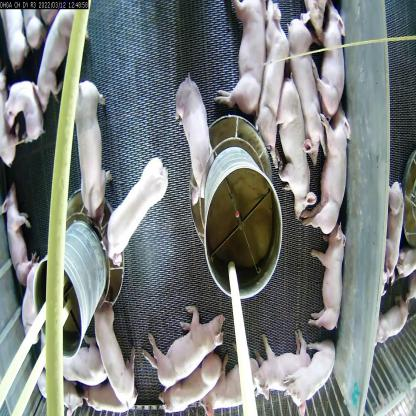Pig: (279, 20, 329, 158), (174, 62, 219, 210), (272, 88, 316, 230), (146, 301, 226, 379), (104, 160, 167, 258), (70, 79, 113, 219), (216, 0, 266, 119), (254, 1, 288, 169), (35, 10, 93, 107), (95, 298, 140, 414), (314, 113, 354, 235), (250, 330, 312, 401), (159, 352, 228, 415), (317, 4, 351, 125), (283, 333, 337, 407), (311, 228, 347, 334), (196, 359, 260, 415), (1, 73, 44, 147), (5, 192, 38, 284)
